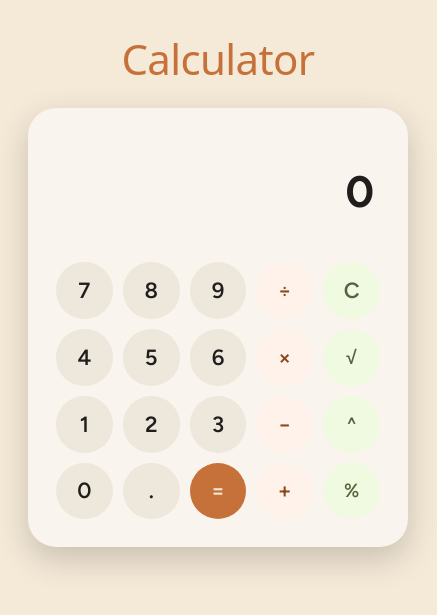
backend errors are surfaced (ADR-0005) › surfaces an OK response whose body is not a numeric result
Click the button "2": (151, 424) [123,396,180,452]
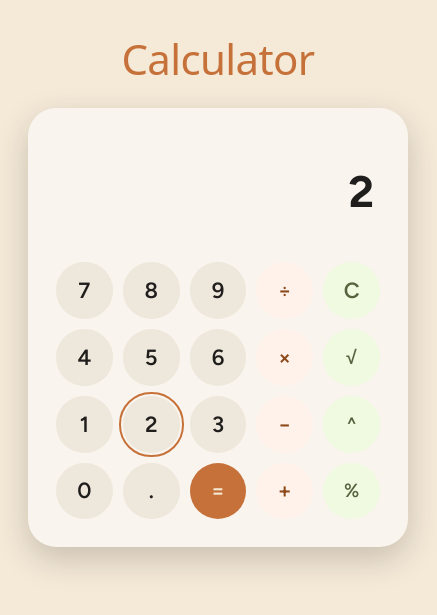
Click the button named "add": (285, 491) [256,462,313,519]
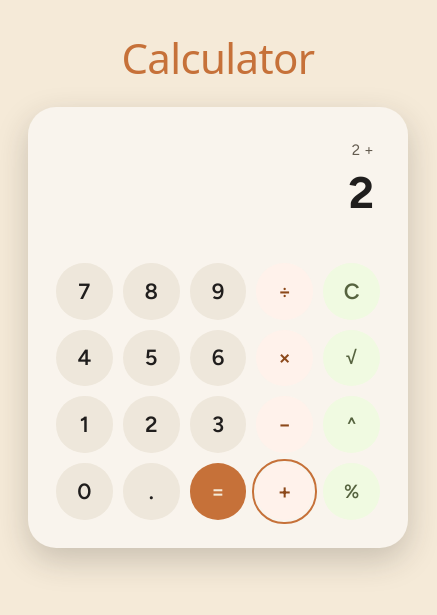
Click the button "3": (218, 425) [190,396,246,453]
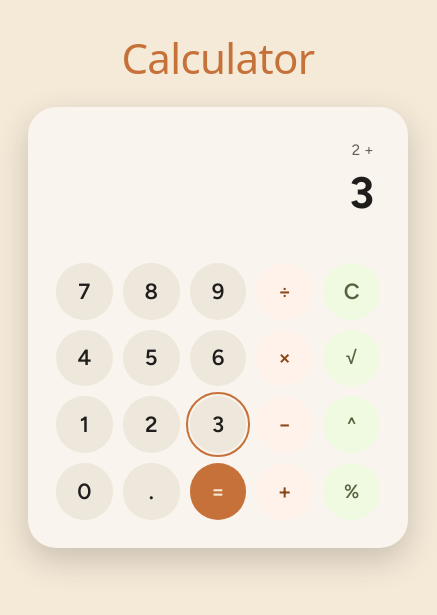
Click the button named "equals": (218, 492) [190,463,246,520]
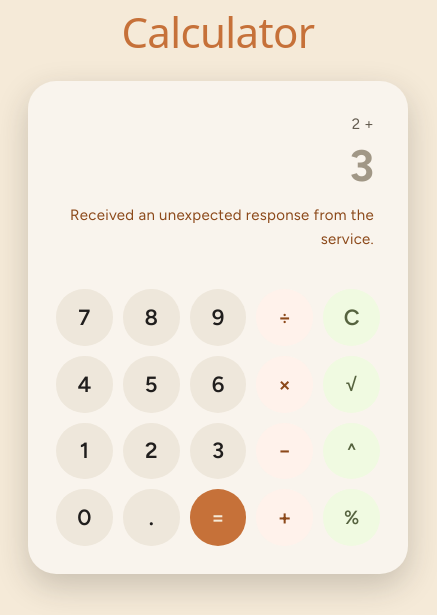
Check: the message reads "Received an unexpected response from the service.", box [70,206,374,248]
